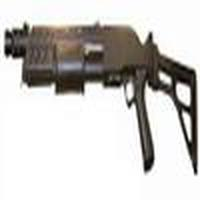gun: (6, 27, 198, 146)
